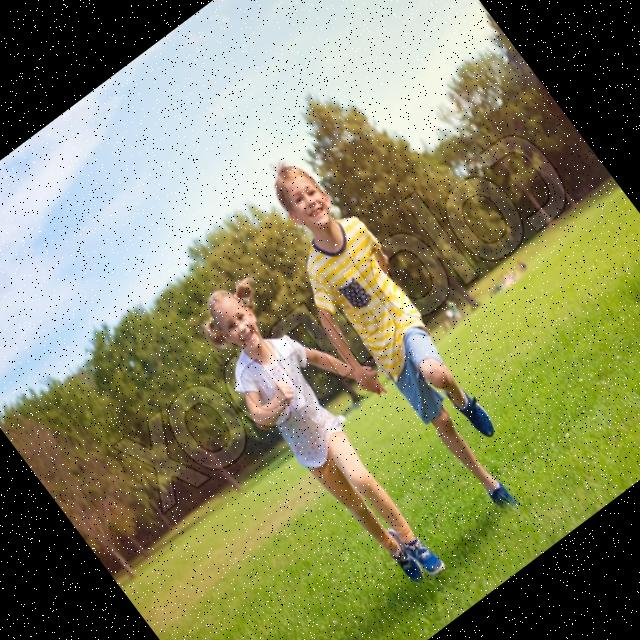Person: (228, 147, 556, 536), (176, 245, 494, 610)
